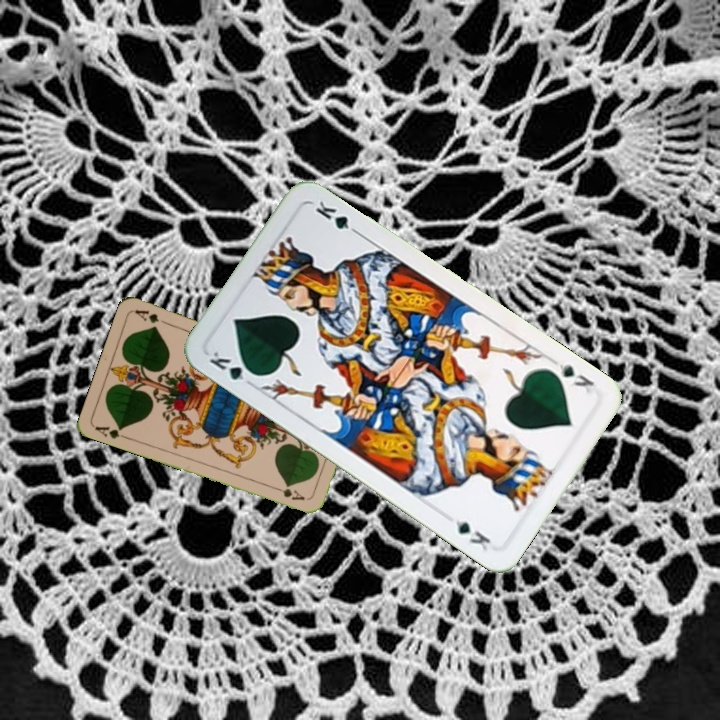GA: (91, 422, 130, 442)
GK: (205, 347, 261, 384), (553, 359, 598, 396)
